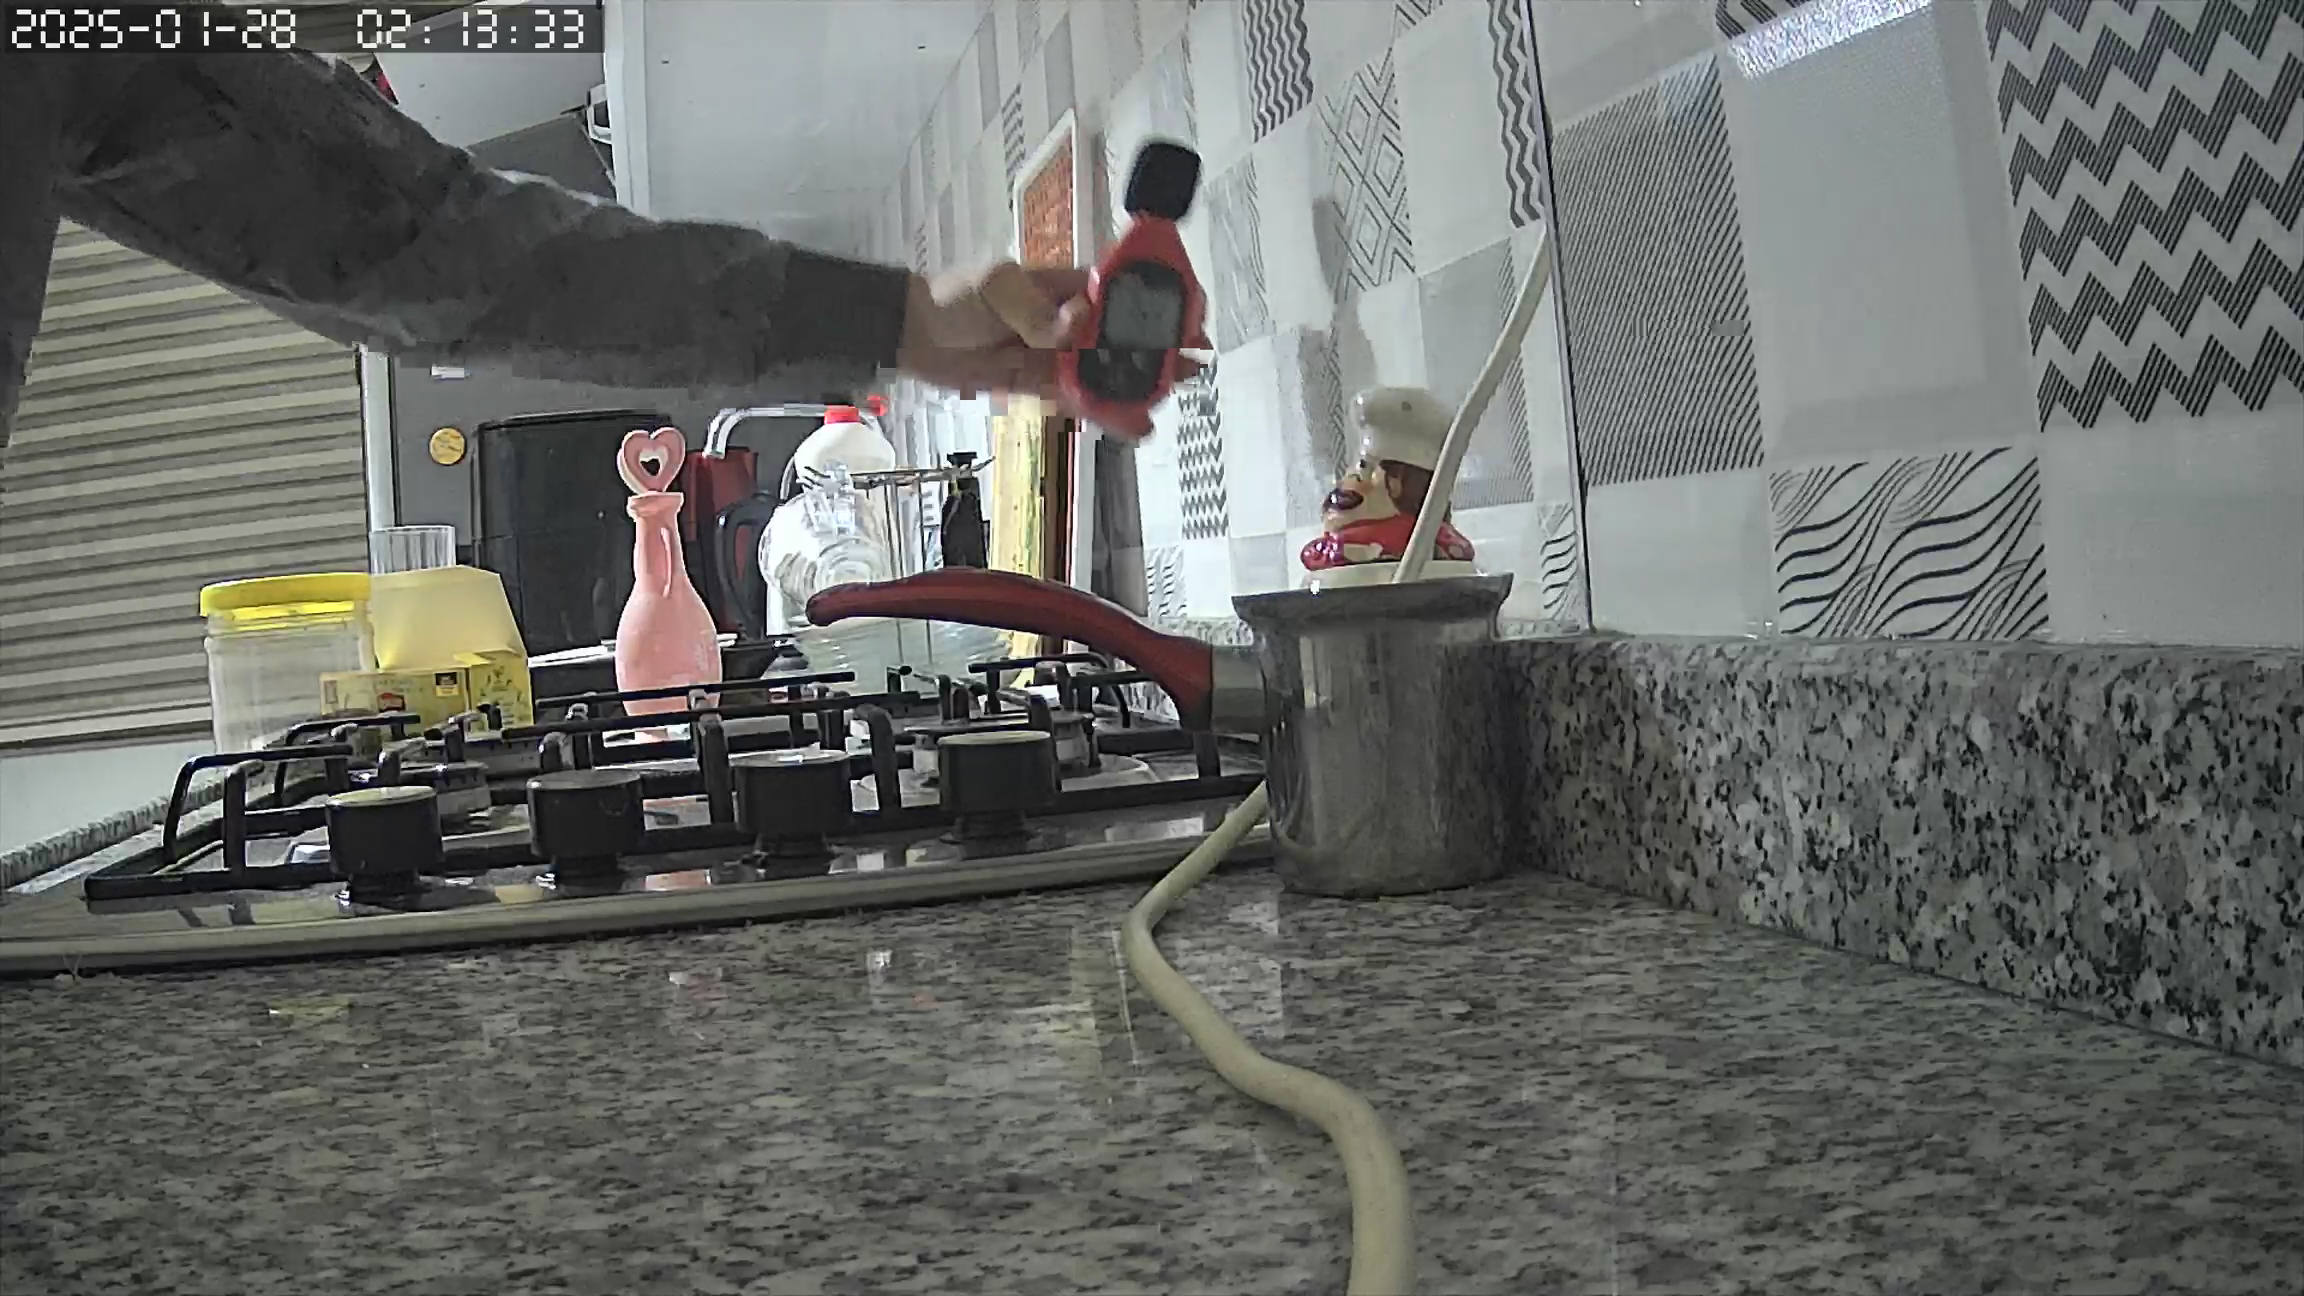screen: (1100, 286, 1180, 348)
